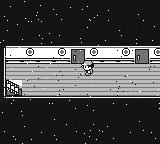main: (81, 61, 94, 76)
no-caminable: (1, 0, 160, 143), (6, 47, 70, 63), (85, 47, 134, 63), (150, 47, 160, 63)
puerta: (6, 80, 22, 97), (136, 49, 148, 63), (72, 49, 84, 63)
